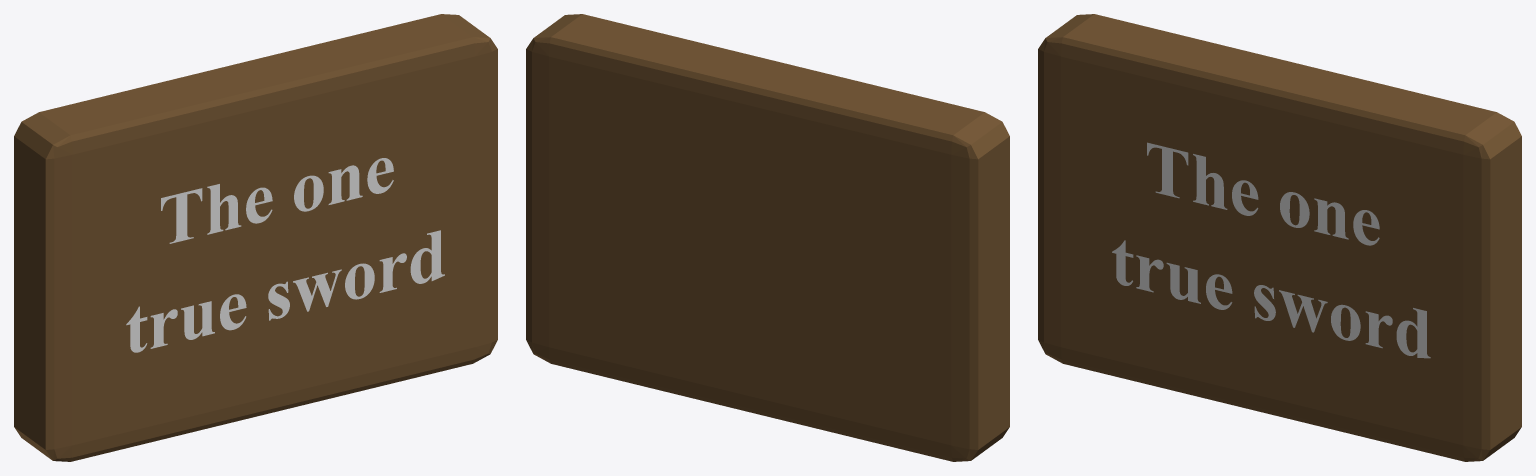
Rendered from swordsign.fbx.
3 renders of one model, left to right at view 1: azimuth 30°, elevation 25°; view 2: azimuth 150°, elevation 25°; view 3: azimuth 330°, elevation 25°, orthographic.
Visible parts, largest first — view 1: Border.001, Text.001; view 2: Border.001; view 3: Border.001, Text.001.
Boxes of the visible parts, x1,y1,x2,y2 form: Border.001: [14, 14, 497, 461]; Text.001: [126, 158, 444, 352]; Border.001: [526, 14, 1009, 461]; Border.001: [1038, 14, 1521, 461]; Text.001: [1112, 142, 1430, 358].
Bounding box in the file's own units: 2 × 1.38 × 0.2822.
